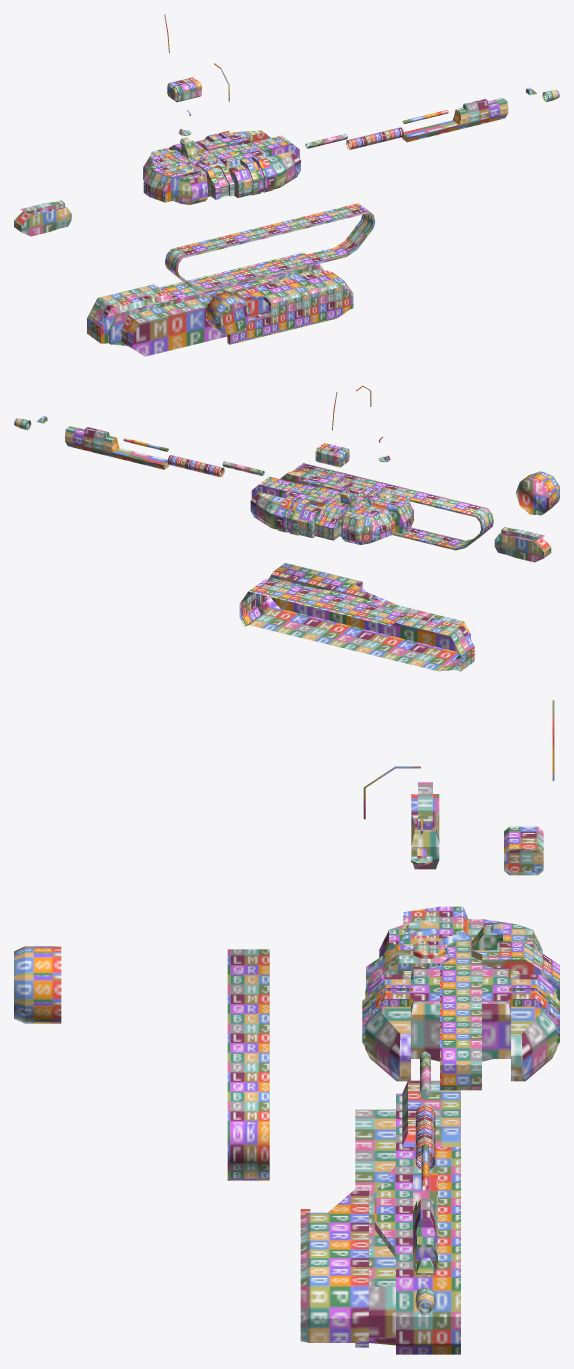
File: ngtank.obj
3 renders of one model, top to bottom at view 1: azimuth 30°, elevation 25°; view 2: azimuth 150°, elevation 25°; view 3: azimuth 270°, elevation 25°, orthographic. The views are drawn at different scales.
Parts seen in each view (by area): view 1: cube1_extract22_cube1_extract22_auv; view 2: cube1_extract22_cube1_extract22_auv; view 3: cube1_extract22_cube1_extract22_auv.
Boxes of the visible parts, box(x1,y1,x2,y2) form: cube1_extract22_cube1_extract22_auv: box(14, 14, 559, 356); cube1_extract22_cube1_extract22_auv: box(14, 385, 559, 671); cube1_extract22_cube1_extract22_auv: box(14, 700, 559, 1354).
Size of what is drawn, in the model's own units: 25.93 by 13.15 by 11.88.
1 material, 1 textured.
